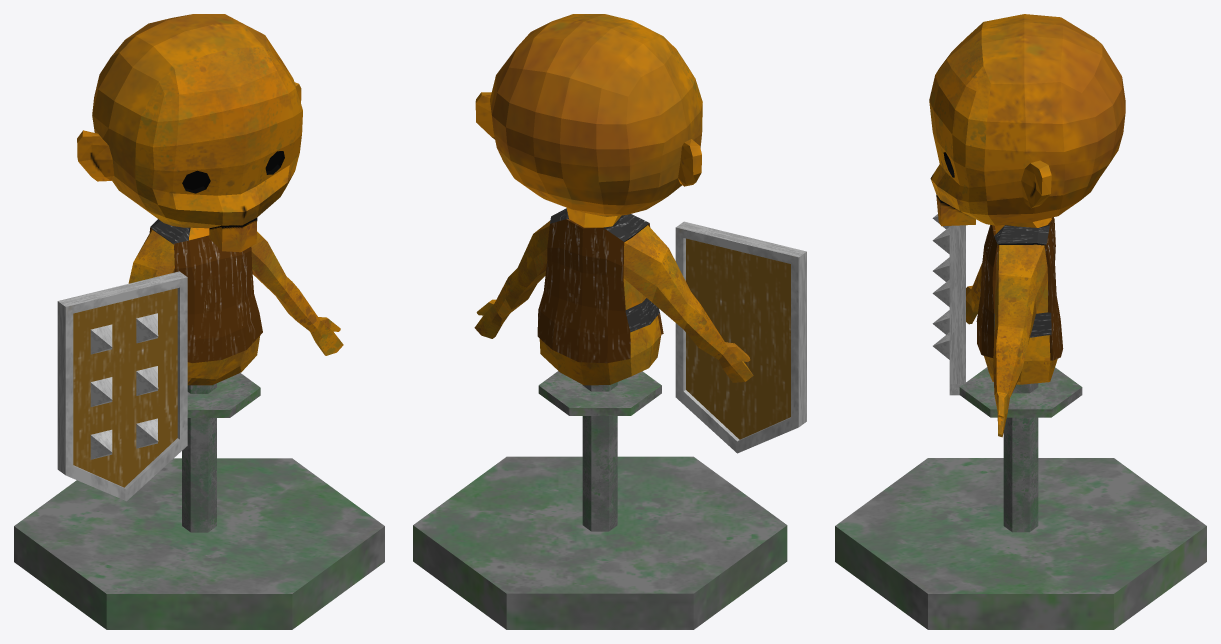
File: dummy.obj
3 views of the same model, side by side, from view 1: azimuth 30°, elevation 25°; view 2: azimuth 150°, elevation 25°; view 3: azimuth 270°, elevation 25° (orthographic).
Visible parts, largest first — view 1: BOSS.005, Cube.028; view 2: BOSS.005, Cube.028; view 3: BOSS.005, Cube.028.
Boxes of the visible parts, box(x1,y1,x2,y2) form: BOSS.005: box(14, 14, 384, 629); Cube.028: box(57, 271, 187, 501); BOSS.005: box(413, 14, 787, 629); Cube.028: box(675, 221, 806, 453); BOSS.005: box(835, 14, 1206, 629); Cube.028: box(932, 214, 965, 395).
Bounding box in the file's own units: 5.31 × 8.76 × 5.53.
Materials: 2 (2 with a texture image).
